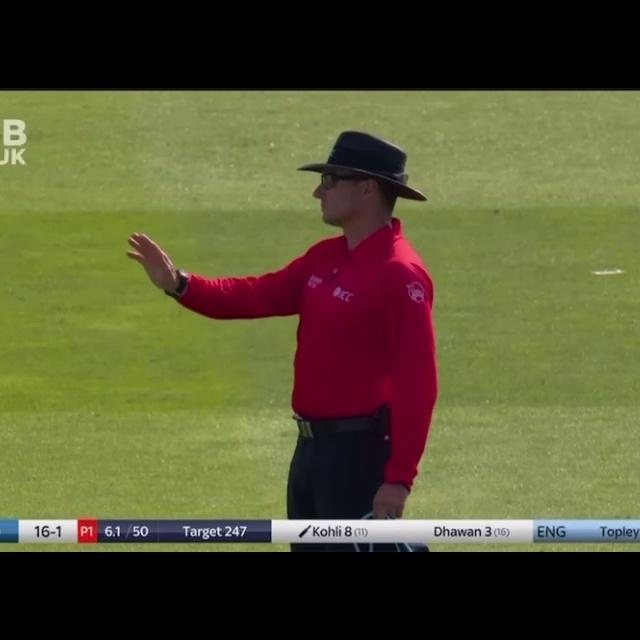umpire: (119, 114, 452, 551)
